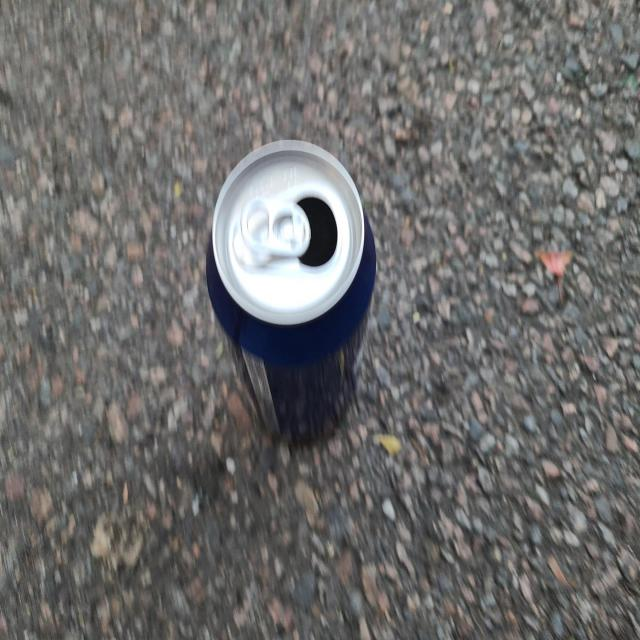can: (206, 140, 376, 443)
